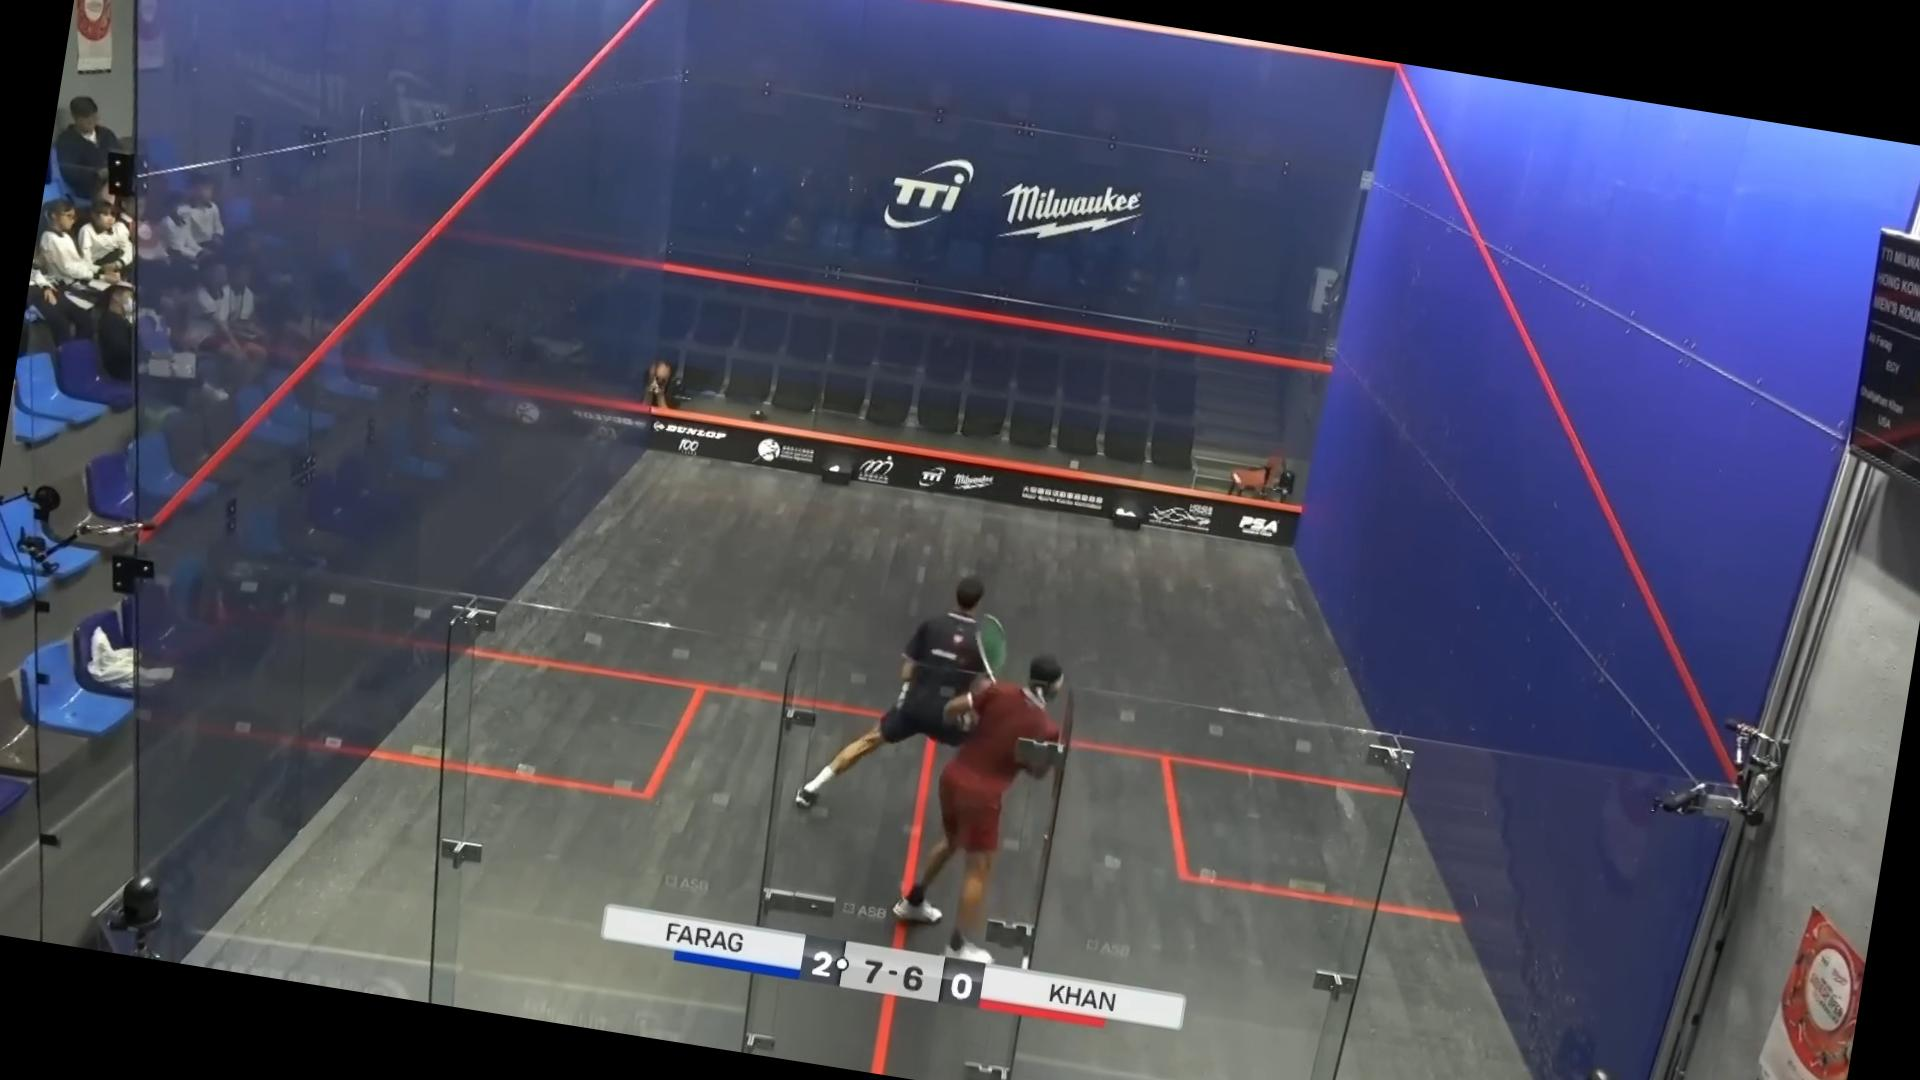Racket: (965, 605, 1018, 690)
